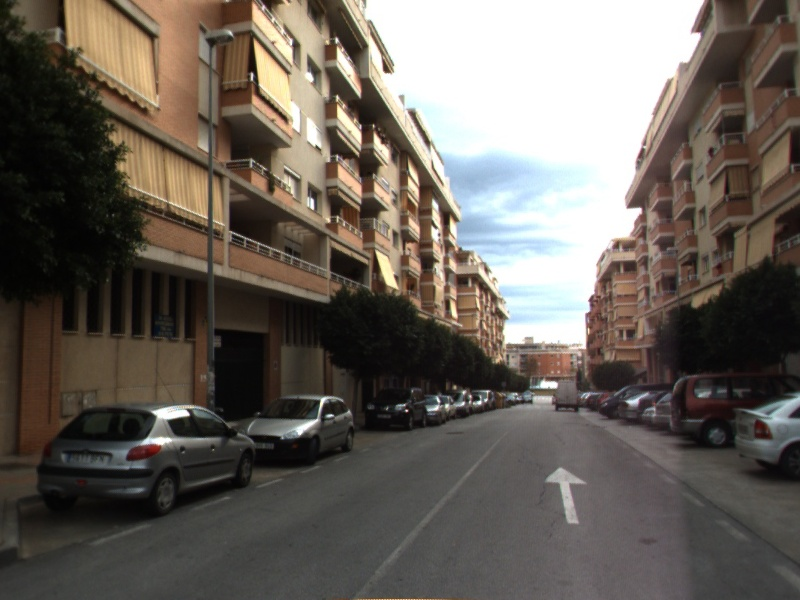STRAIGHT: (541, 465, 589, 525)
